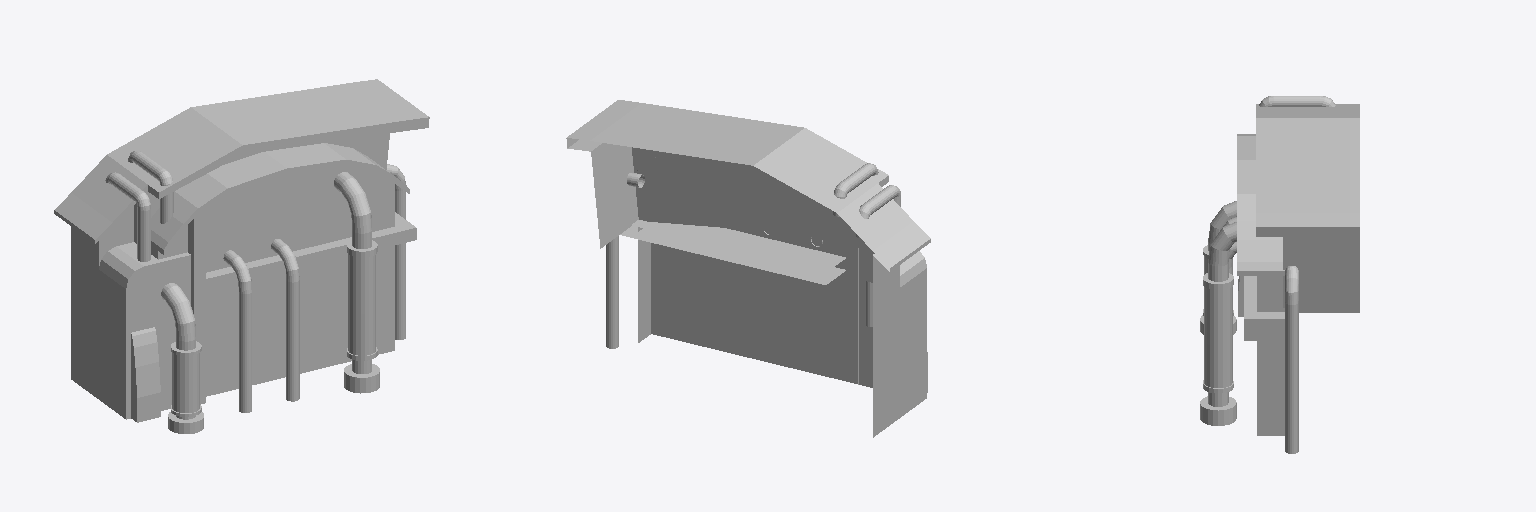
Rendered from Building_4.obj.
The picture shows the model from 3 angles: view 1: azimuth 30°, elevation 25°; view 2: azimuth 150°, elevation 25°; view 3: azimuth 270°, elevation 25°; orthographic projection.
Parts seen in each view (by area): view 1: Walls, Roof, Frame, Decorations Pipe_Sheath_1 Large_Pipe_3, Decorations Large_Pipe_3 Large_Pipe_1, Decorations Vent, Decorations Small_Pipe_1, Small_Pipe_2 Decorations, Decorations Large_Pipe_2 Large_Pipe_2, Decorations Pipe_Sheath_2 Large_Pipe_2, Decorations Small_Pipe_3, Decorations Roof_Pipe_2 (+1 smaller); view 2: Walls, Roof, Frame, Decorations Small_Pipe_3, Decorations Roof_Pipe_1, Decorations Roof_Pipe_2; view 3: Roof, Walls, Decorations Pipe_Sheath_1 Large_Pipe_3, Decorations Small_Pipe_3, Decorations Large_Pipe_3 Large_Pipe_1, Frame, Decorations Roof_Pipe_1, Decorations Large_Pipe_2 Large_Pipe_2.
Boxes of the visible parts, box(x1,y1,x2,y2) form: Walls: box(71, 133, 394, 419); Roof: box(54, 79, 429, 254); Frame: box(188, 210, 416, 404); Decorations Pipe_Sheath_1 Large_Pipe_3: box(348, 254, 375, 355); Decorations Large_Pipe_3 Large_Pipe_1: box(334, 172, 379, 393); Decorations Vent: box(131, 327, 160, 422); Decorations Small_Pipe_1: box(271, 239, 299, 401); Small_Pipe_2 Decorations: box(223, 250, 251, 412); Decorations Large_Pipe_2 Large_Pipe_2: box(161, 283, 203, 433); Decorations Pipe_Sheath_2 Large_Pipe_2: box(172, 353, 199, 412); Decorations Small_Pipe_3: box(387, 164, 405, 339); Decorations Roof_Pipe_2: box(105, 172, 150, 261); Walls: box(591, 143, 926, 437); Roof: box(566, 100, 930, 271); Frame: box(620, 220, 858, 384); Decorations Small_Pipe_3: box(606, 173, 644, 348); Decorations Roof_Pipe_1: box(833, 163, 878, 326); Decorations Roof_Pipe_2: box(856, 185, 900, 237); Roof: box(1237, 104, 1359, 275); Walls: box(1257, 237, 1359, 435); Decorations Pipe_Sheath_1 Large_Pipe_3: box(1204, 287, 1232, 387); Decorations Small_Pipe_3: box(1285, 266, 1298, 453); Decorations Large_Pipe_3 Large_Pipe_1: box(1200, 222, 1236, 425); Frame: box(1244, 276, 1284, 340); Decorations Roof_Pipe_1: box(1259, 96, 1335, 106); Decorations Large_Pipe_2 Large_Pipe_2: box(1200, 201, 1236, 334).
Bounding box in the file's own units: 13.63 × 10.12 × 5.84.